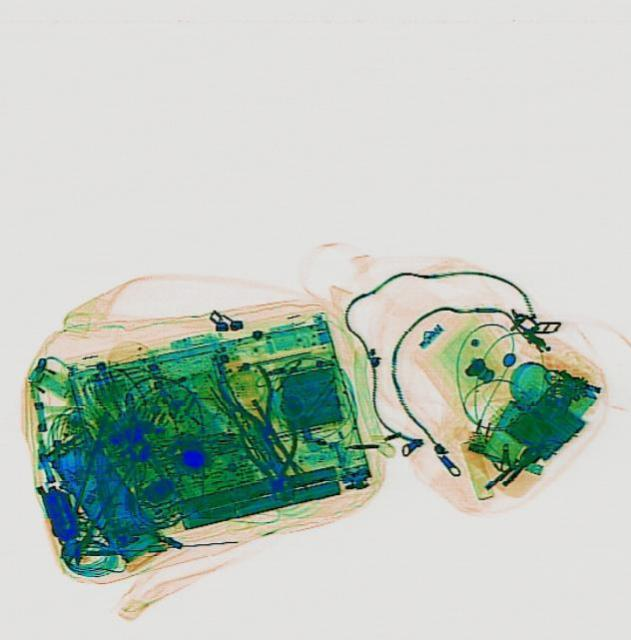Pliers: (208, 357, 294, 453), (234, 412, 307, 503)
